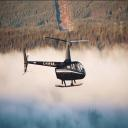helicopter: (24, 37, 91, 89)
